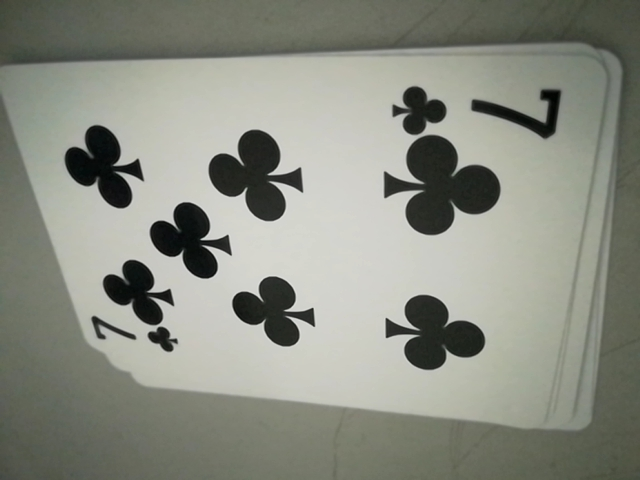mh 7: (387, 74, 567, 141), (83, 311, 178, 360)
